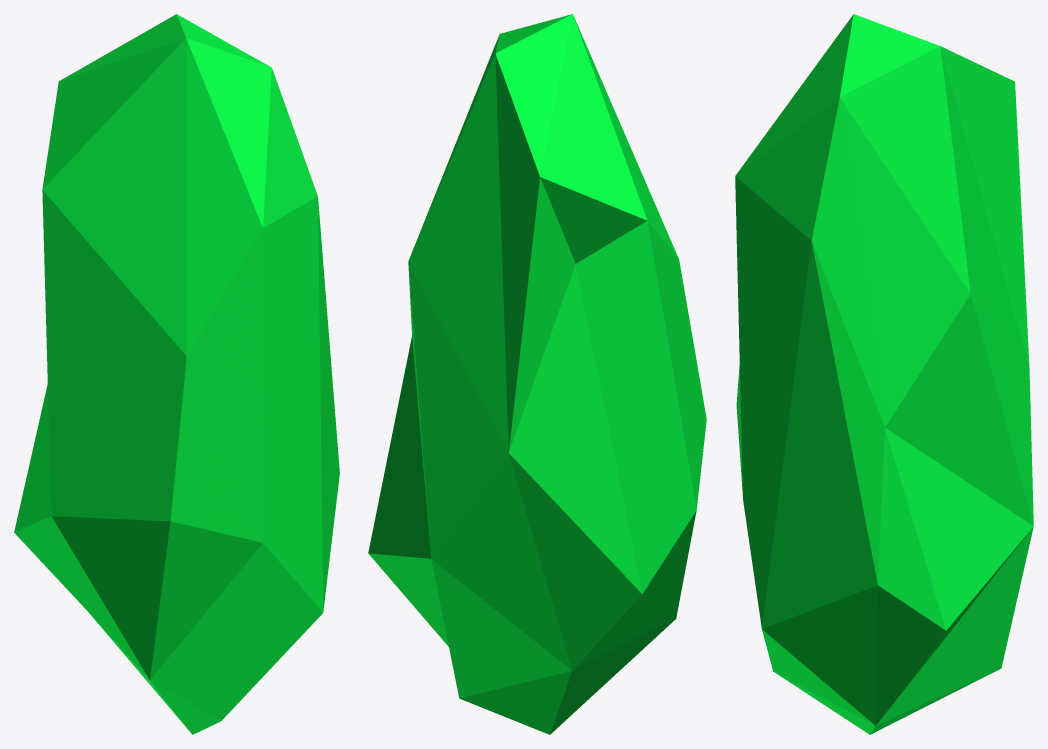
File: Crystal_022.fbx
The picture shows the model from 3 angles, left to right: view 1: azimuth 30°, elevation 25°; view 2: azimuth 150°, elevation 25°; view 3: azimuth 270°, elevation 25°; orthographic projection.
Parts seen in each view (by area): view 1: Crystal.022; view 2: Crystal.022; view 3: Crystal.022.
Boxes of the visible parts, x1,y1,x2,y2 form: Crystal.022: (14,14,339,734); Crystal.022: (368,14,706,734); Crystal.022: (735,14,1033,734).
Bounding box in the file's own units: 223 × 512 × 194.
